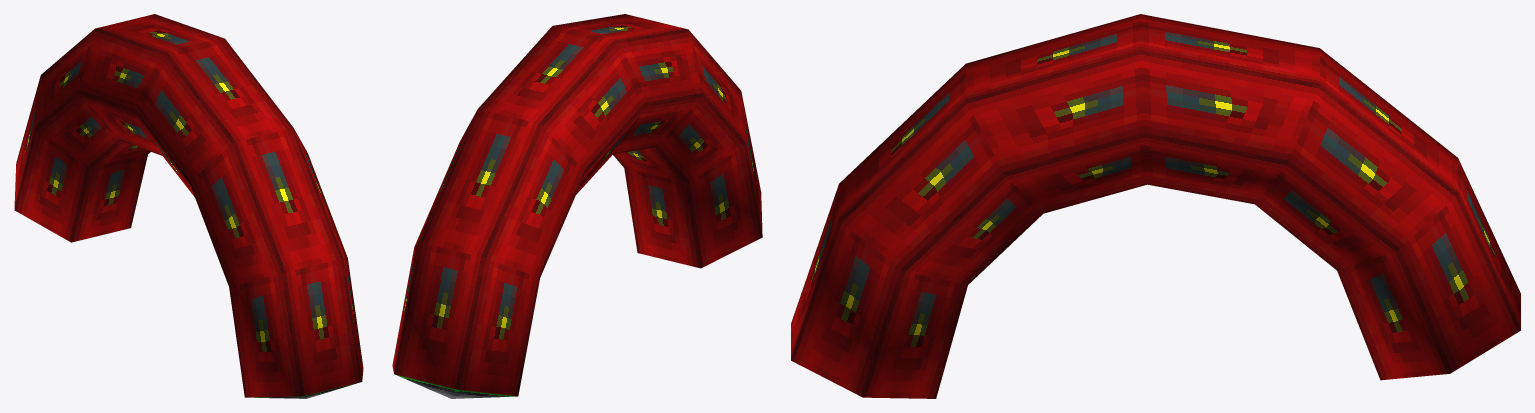
The picture shows the model from 3 angles, left to right: view 1: azimuth 30°, elevation 25°; view 2: azimuth 150°, elevation 25°; view 3: azimuth 270°, elevation 25°; orthographic projection. The views are drawn at different scales.
Parts seen in each view (by area): view 1: Joke_obj_031; view 2: Joke_obj_031; view 3: Joke_obj_031.
Part boxes in pixels (x1,y1,x2,y2): Joke_obj_031: (14, 14, 363, 398); Joke_obj_031: (392, 14, 762, 398); Joke_obj_031: (791, 14, 1520, 398).
Bounding box in the file's own units: 0.2988 × 0.6562 × 1.25.
1 material, 1 textured.
